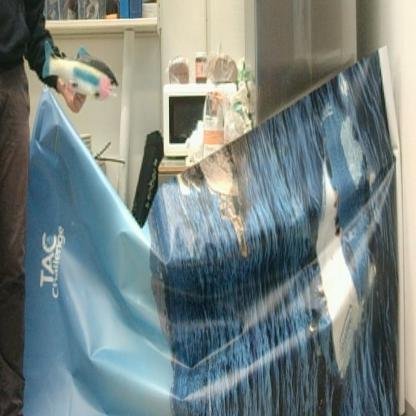rubberfish: (42, 38, 122, 102)
